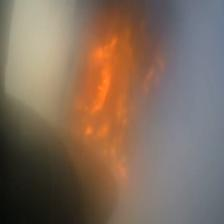fire: (55, 15, 166, 204)
